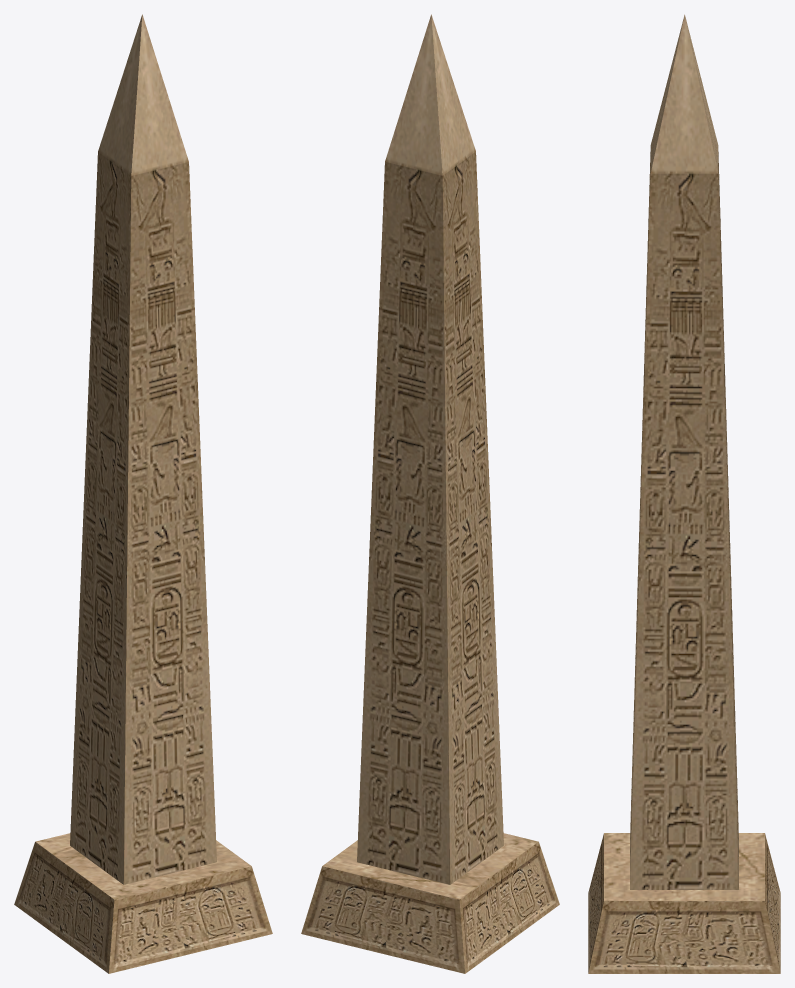
File: obelisk_a.glb
3 renders of one model, left to right at view 1: azimuth 30°, elevation 25°; view 2: azimuth 150°, elevation 25°; view 3: azimuth 270°, elevation 25°, orthographic.
Parts seen in each view (by area): view 1: default; view 2: default; view 3: default.
Part boxes in pixels (<box>): default: <box>14,14,272,973</box>; default: <box>301,14,559,973</box>; default: <box>588,14,780,973</box>.
Bounding box in the file's own units: 3.66 × 19.32 × 3.66.
Materials: 1 (1 with a texture image).
